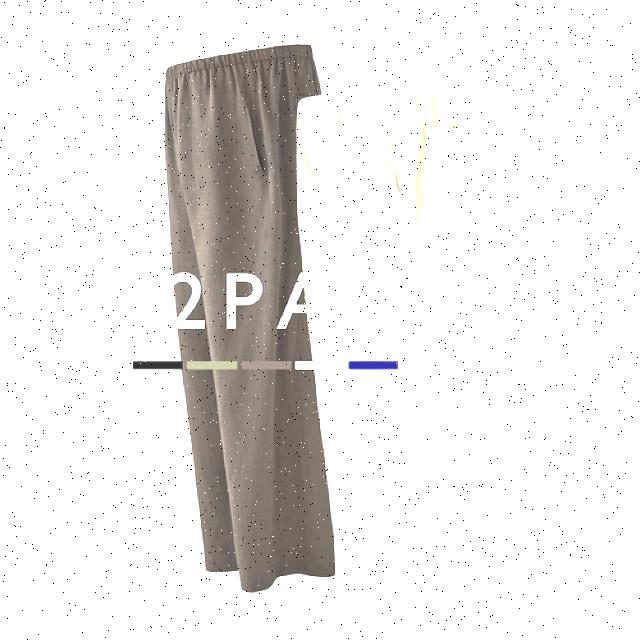dress: (162, 45, 336, 591), (296, 81, 470, 586)
